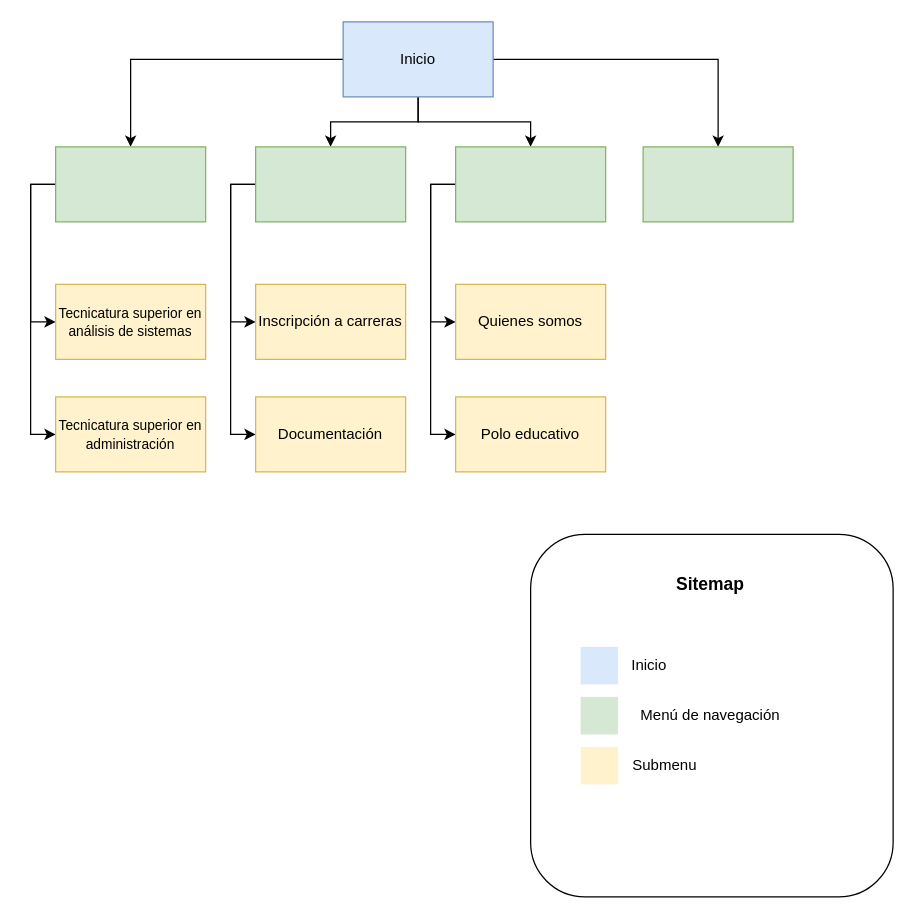
This 915x919 diagram has some shape labels left out. The shapes that lost their labels are listed below. From the top down, each one's box as (x1, y1, x2, y2) in pixels, then its label:
(54, 146, 206, 222): Planes de estudio
(254, 146, 406, 222): Carreras
(454, 146, 606, 222): Institucional
(642, 146, 793, 222): Contacto
